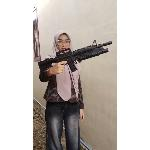Senapan: (36, 37, 116, 77)
